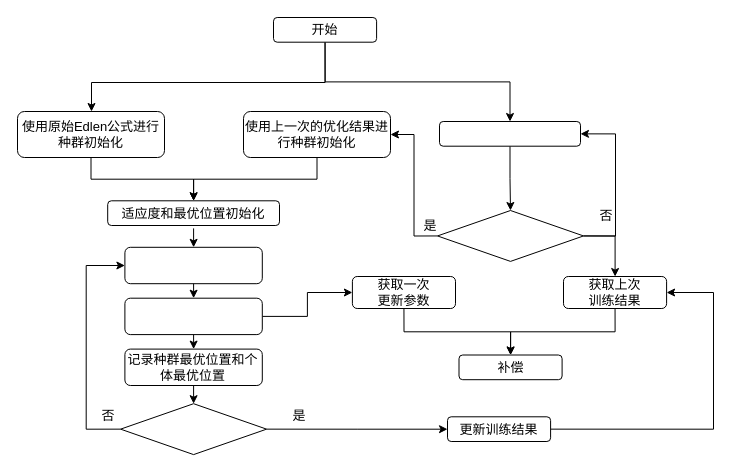
This 739x473 diagram has some shape labels left out. Each missing label, with the centre of its shape:
大于阈值？: the point at 510,235
更新粒子的速度和位置: the point at 193,265
满足迭代条件？: the point at 193,429
计算所有个体的适应度: the point at 193,316
计算温度自身梯度: the point at 509,133
